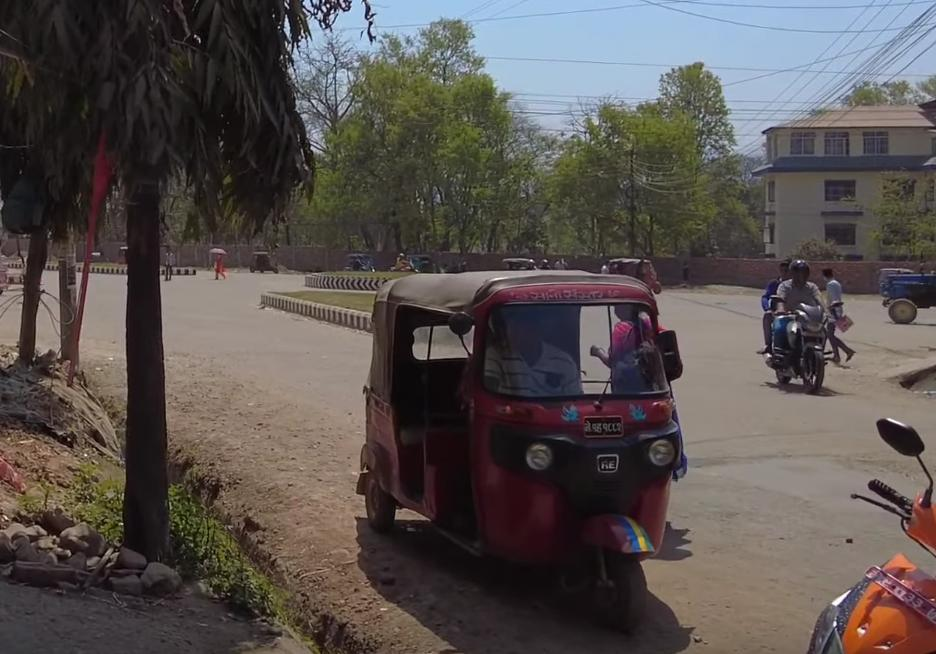auto_rickshaw: (353, 269, 691, 635)
bike: (759, 291, 845, 397)
scooter: (804, 413, 936, 654)
